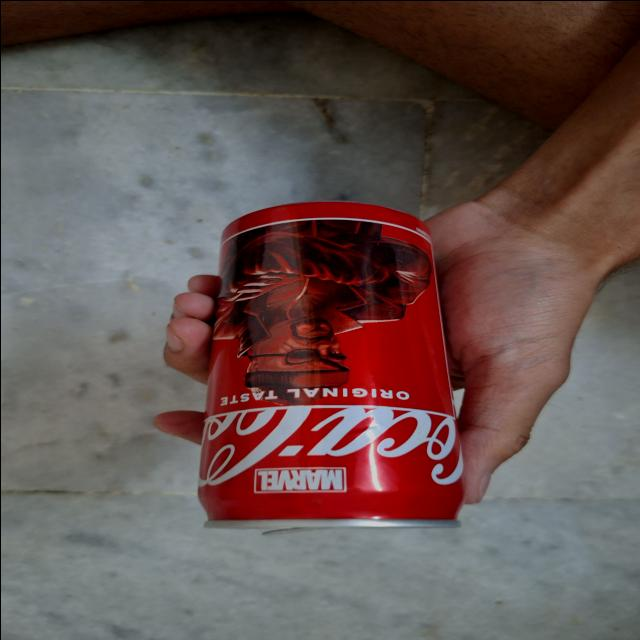Coca Cola - Marvel: (208, 202, 452, 530)
